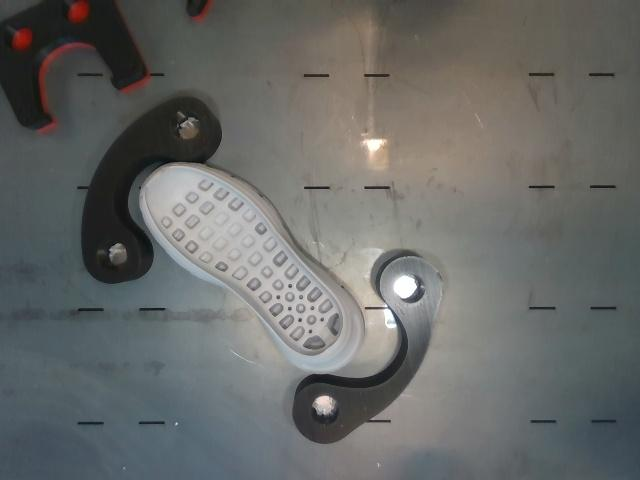shoes: (144, 167, 346, 358)
